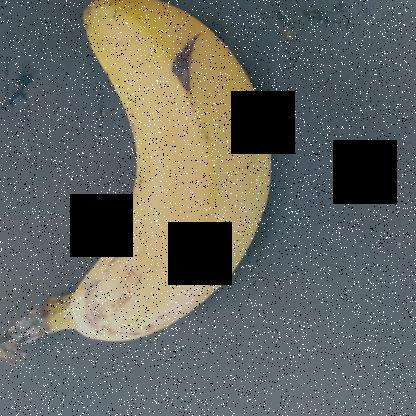ripe: (46, 0, 306, 343)
